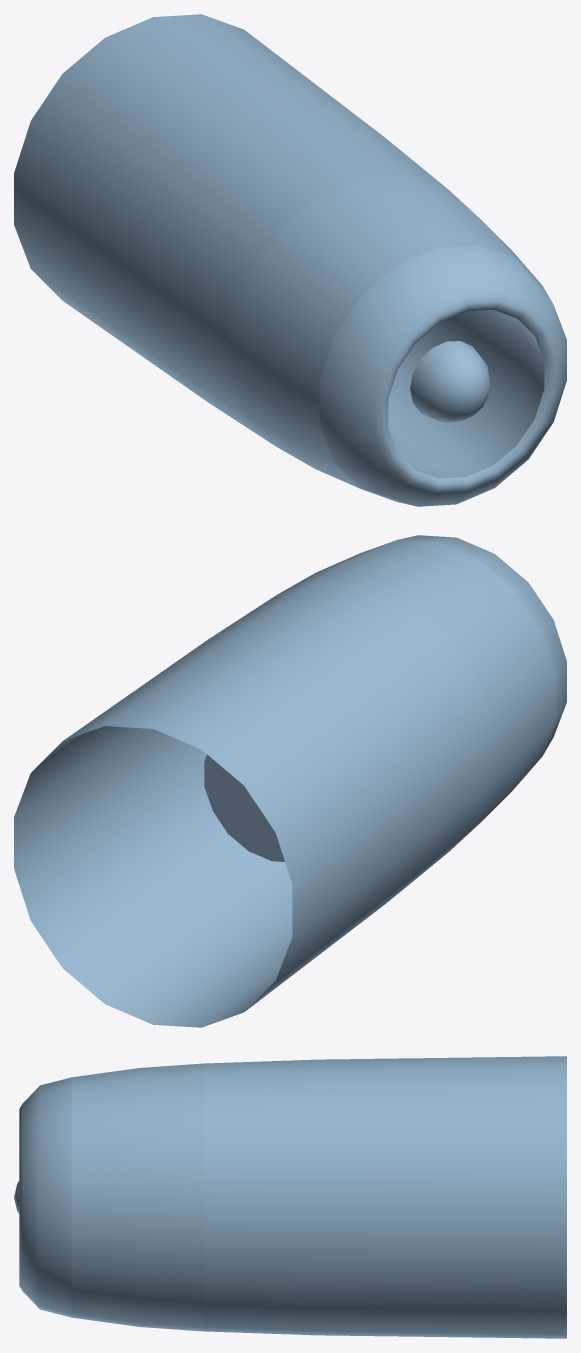
The model's file is engine 2 front part.FBX.
The picture shows the model from 3 angles, top to bottom: view 1: azimuth 30°, elevation 25°; view 2: azimuth 150°, elevation 25°; view 3: azimuth 270°, elevation 25°; orthographic projection. The views are drawn at different scales.
Visible parts, largest first — view 1: Object47; view 2: Object47; view 3: Object47.
Part boxes in pixels (left/top/right/bottom): Object47: left=14, top=14, right=566, bottom=506; Object47: left=14, top=535, right=566, bottom=1027; Object47: left=14, top=1056, right=566, bottom=1338.
Size of the model in its own units: 0.026 by 0.0515 by 0.0264.
